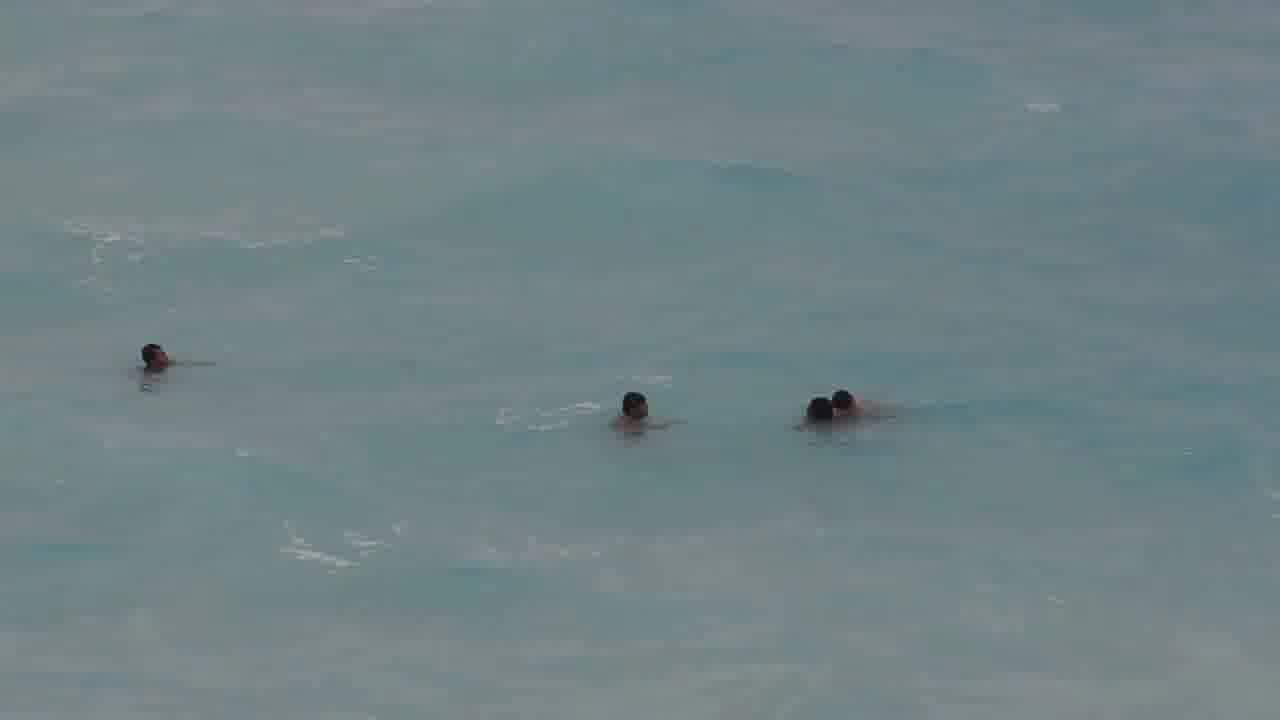swimmer: (601, 380, 691, 434), (127, 338, 220, 385), (831, 369, 886, 421), (790, 387, 842, 429)
